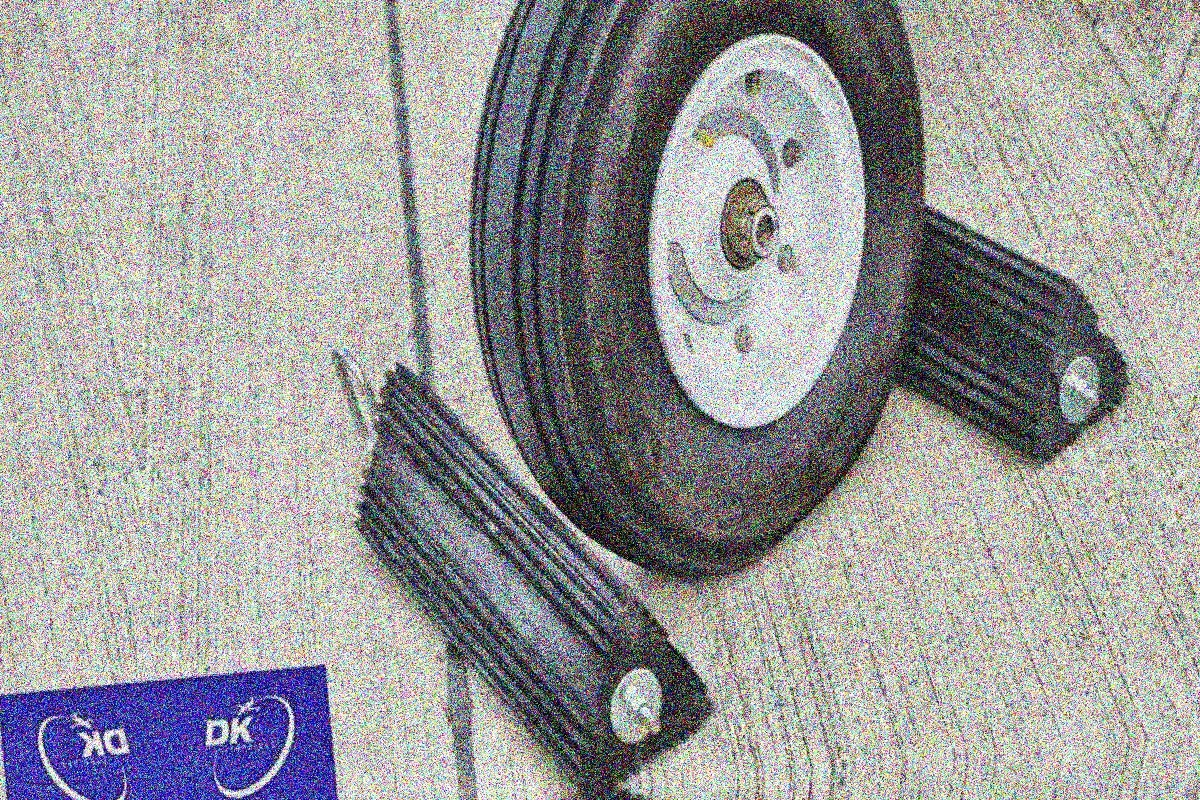chock: (297, 332, 721, 800), (841, 154, 1141, 487)
wheel: (440, 0, 960, 589)
